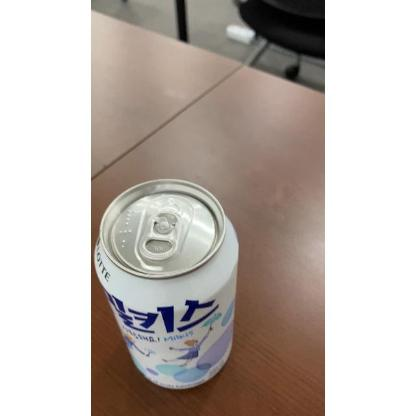Can: (92, 180, 240, 388)
